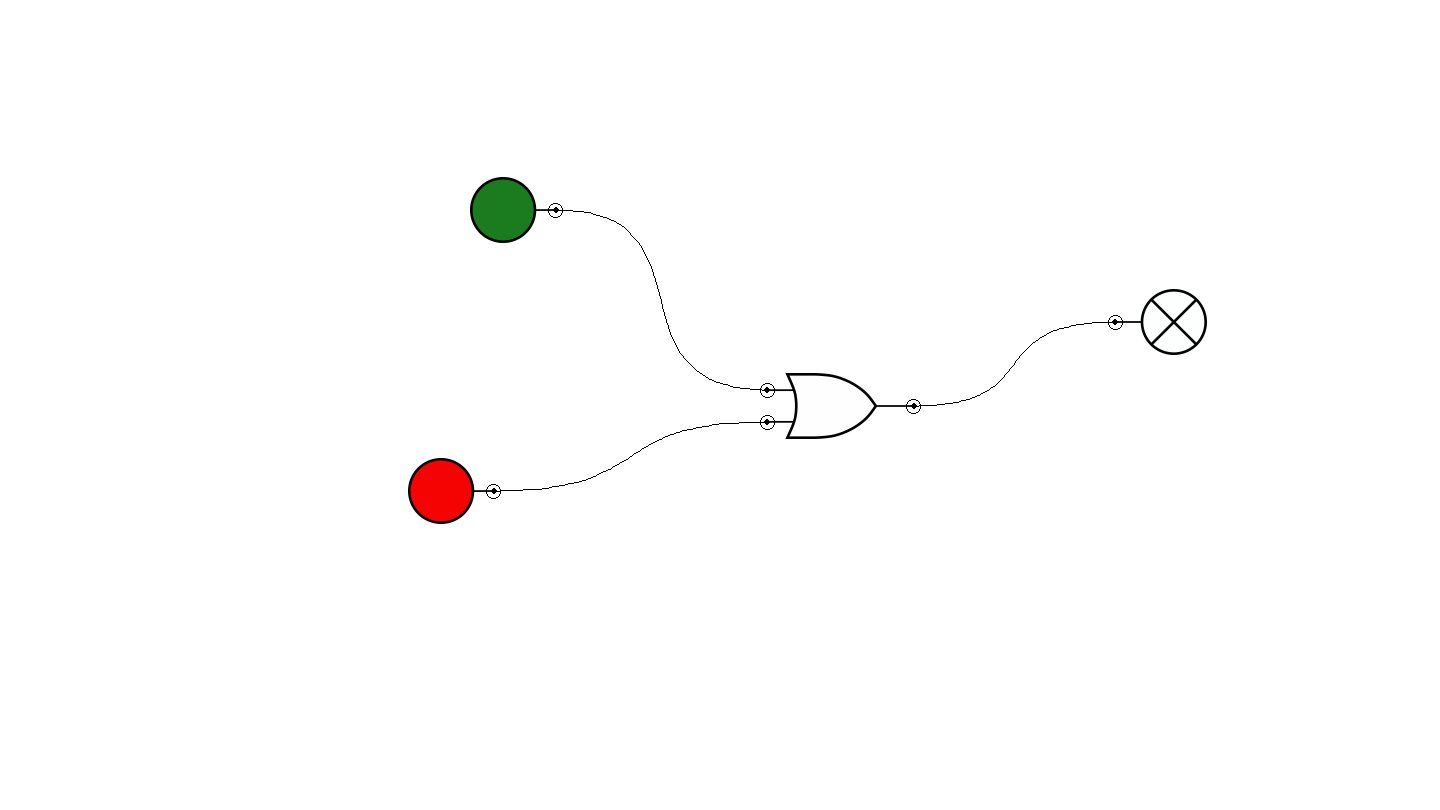bulb: (1108, 289, 1207, 355)
or: (760, 373, 921, 439)
switch_False: (408, 458, 501, 524)
switch_True: (470, 177, 563, 243)
